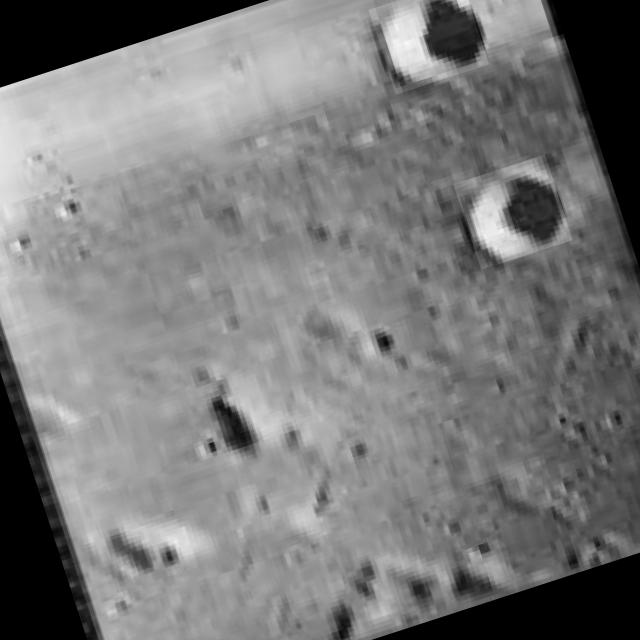crater: (453, 154, 572, 270), (368, 0, 489, 94)
